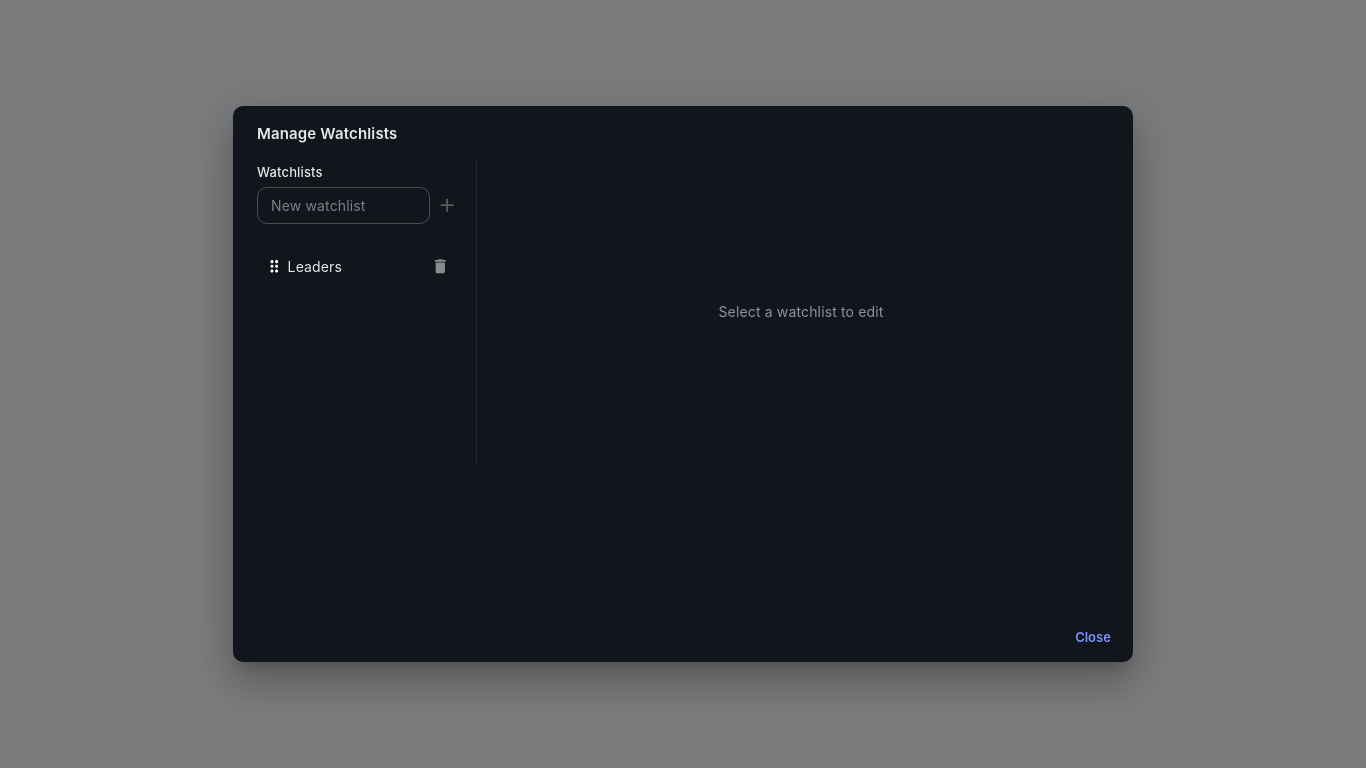
UserWatchlistManager import flow › keeps an import error visible after the import dialog is closed while it was pending
Click the button "Leaders" at x=315, y=266, box [249,248,468,285]
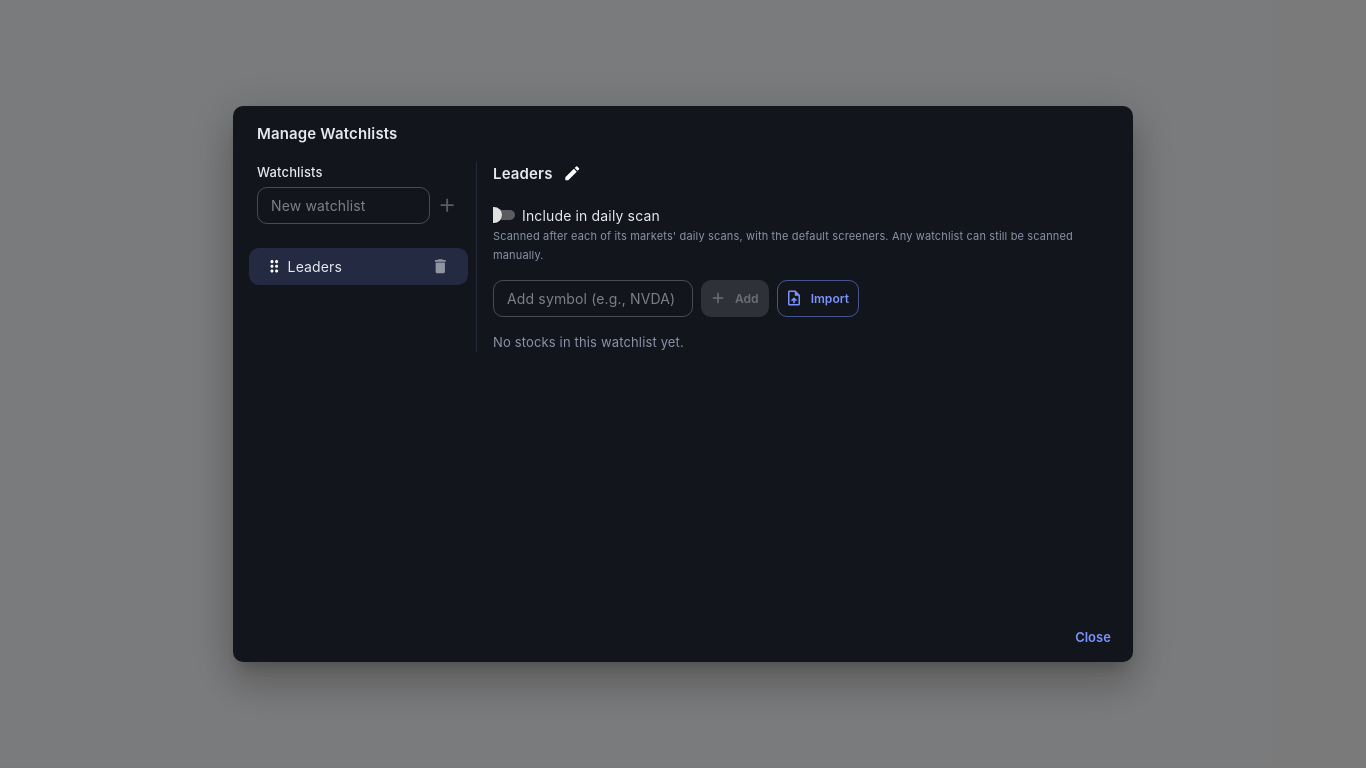
Click the button "Import" at x=818, y=298, box [777,280,859,317]
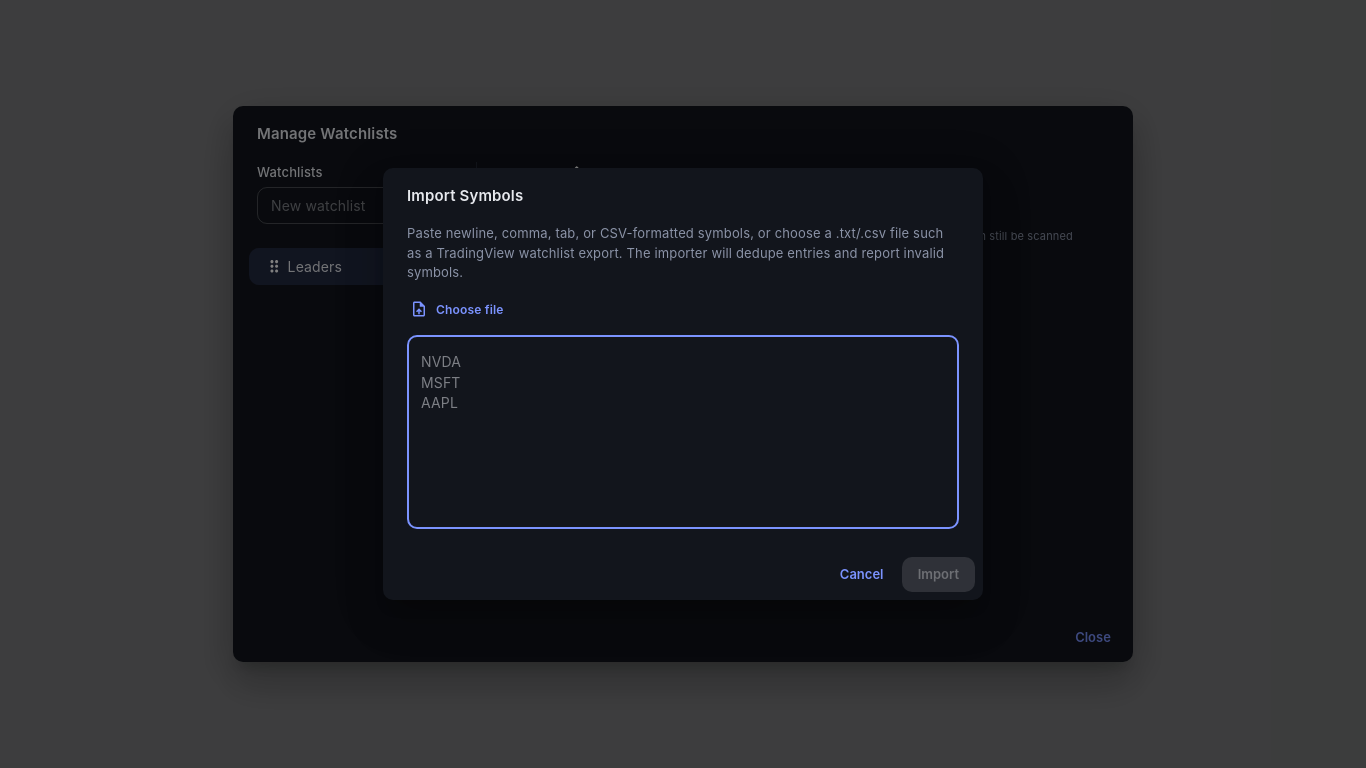
Type "NVDA" into the text box named "Symbols to import" at x=683, y=432, box [421,352,945,512]
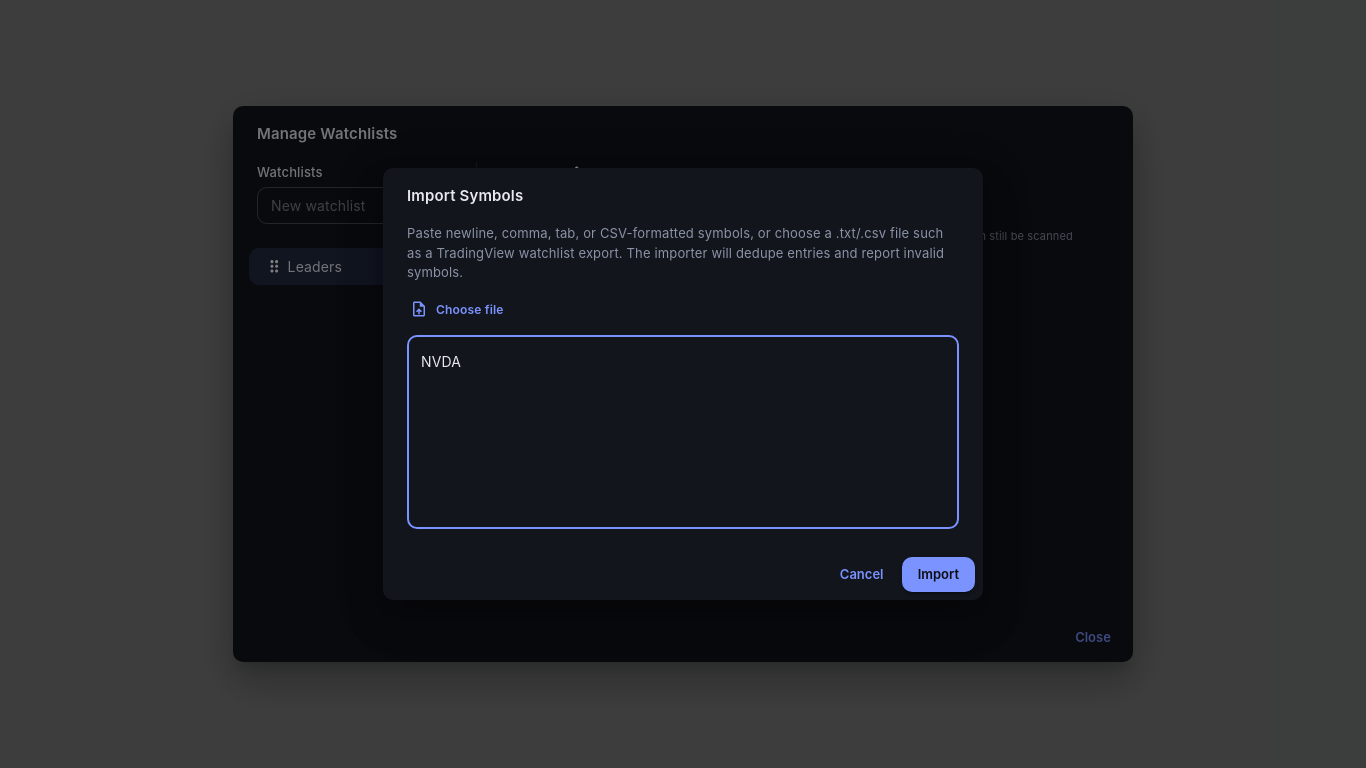
Click the button "Import" at x=938, y=574, box [902,557,975,592]
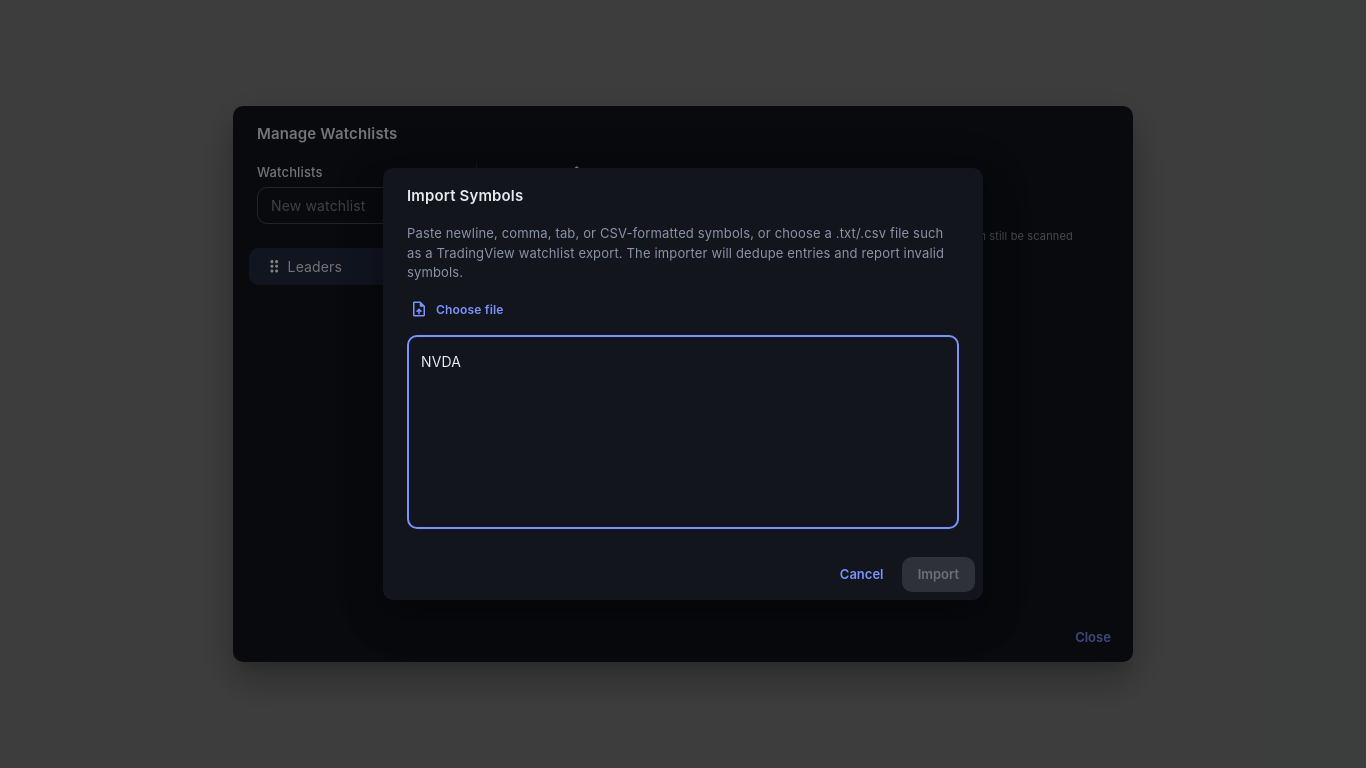
Click the button "Cancel" at x=862, y=574, box [830,557,894,592]
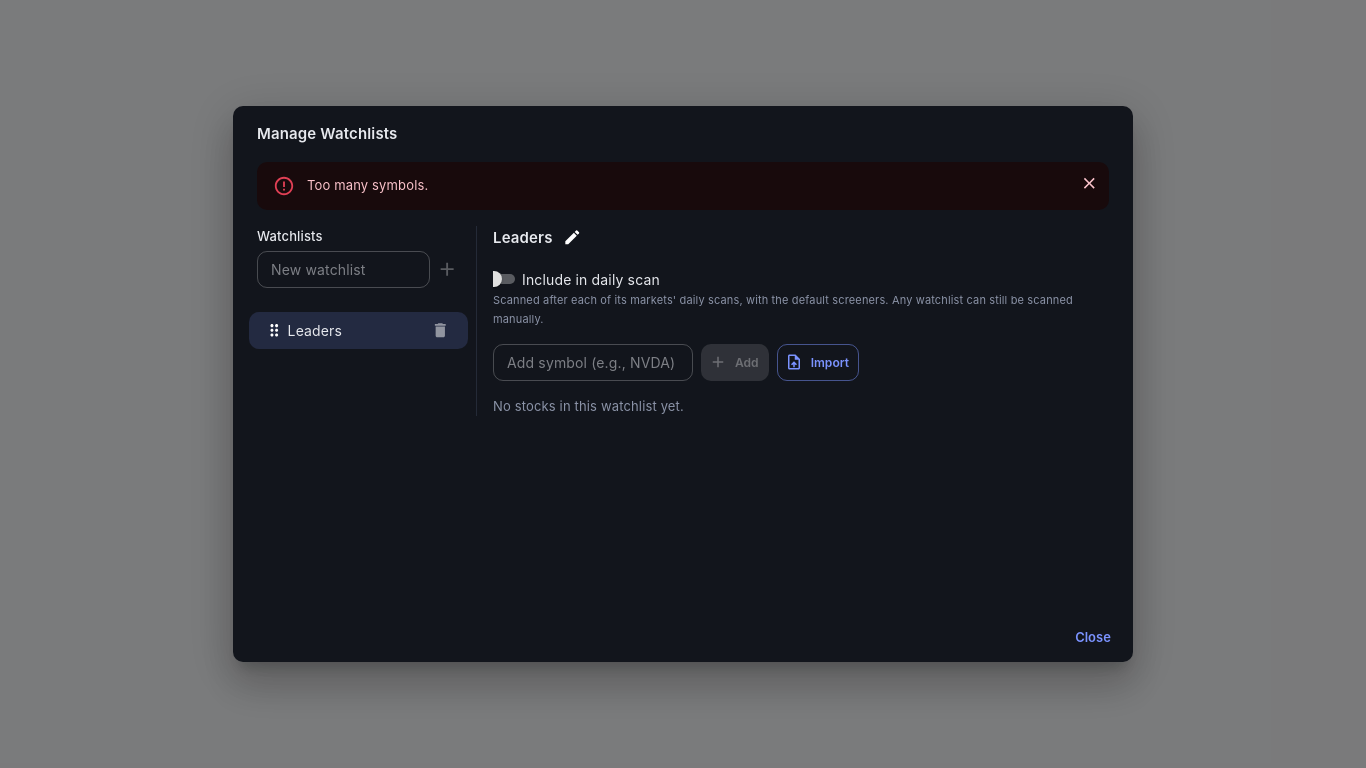
Check: the heading "Import Symbols" is gone
Check: the message reads "Too many symbols.", box [307,177,428,193]
